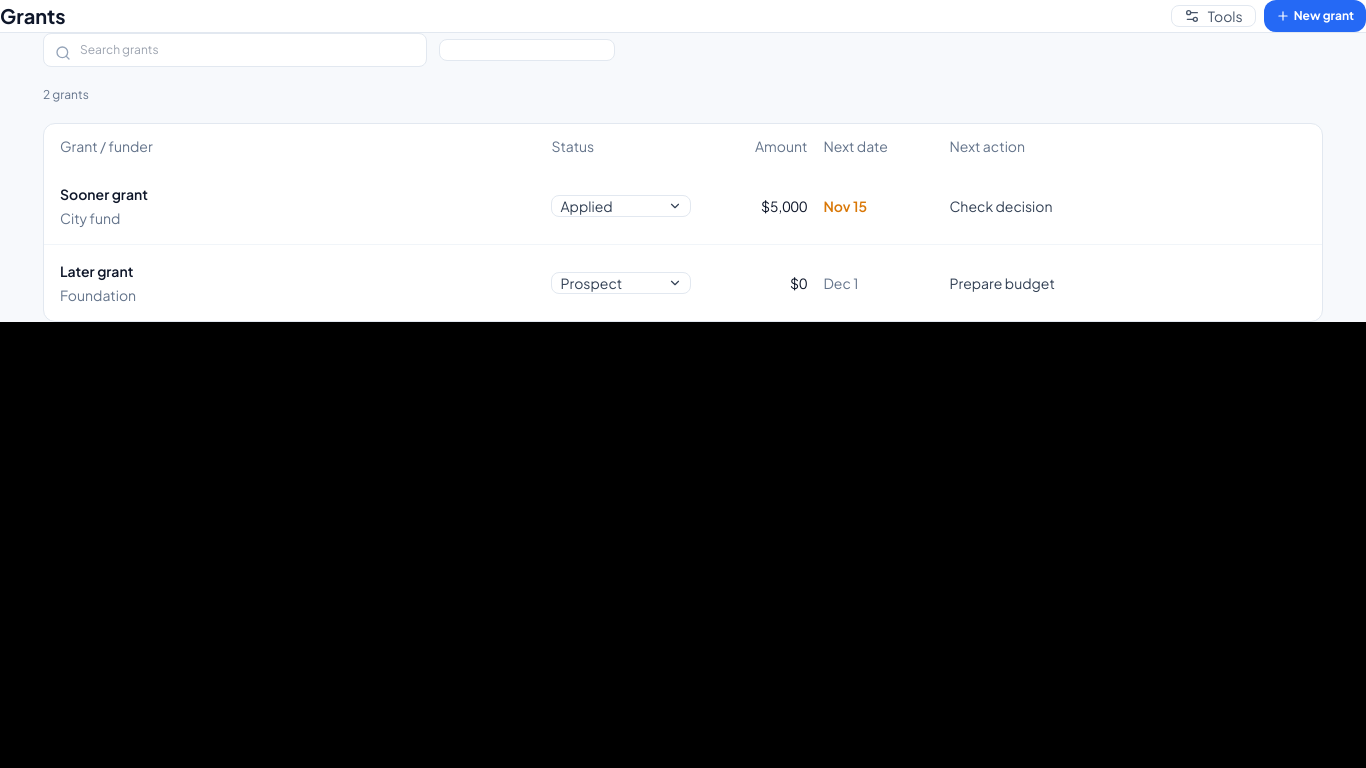
Test case: simple grant tracker › keeps new-grant essentials visible and less-used metadata collapsed
Click the button "New grant".
click(1315, 16)  # box [1264, 0, 1365, 32]
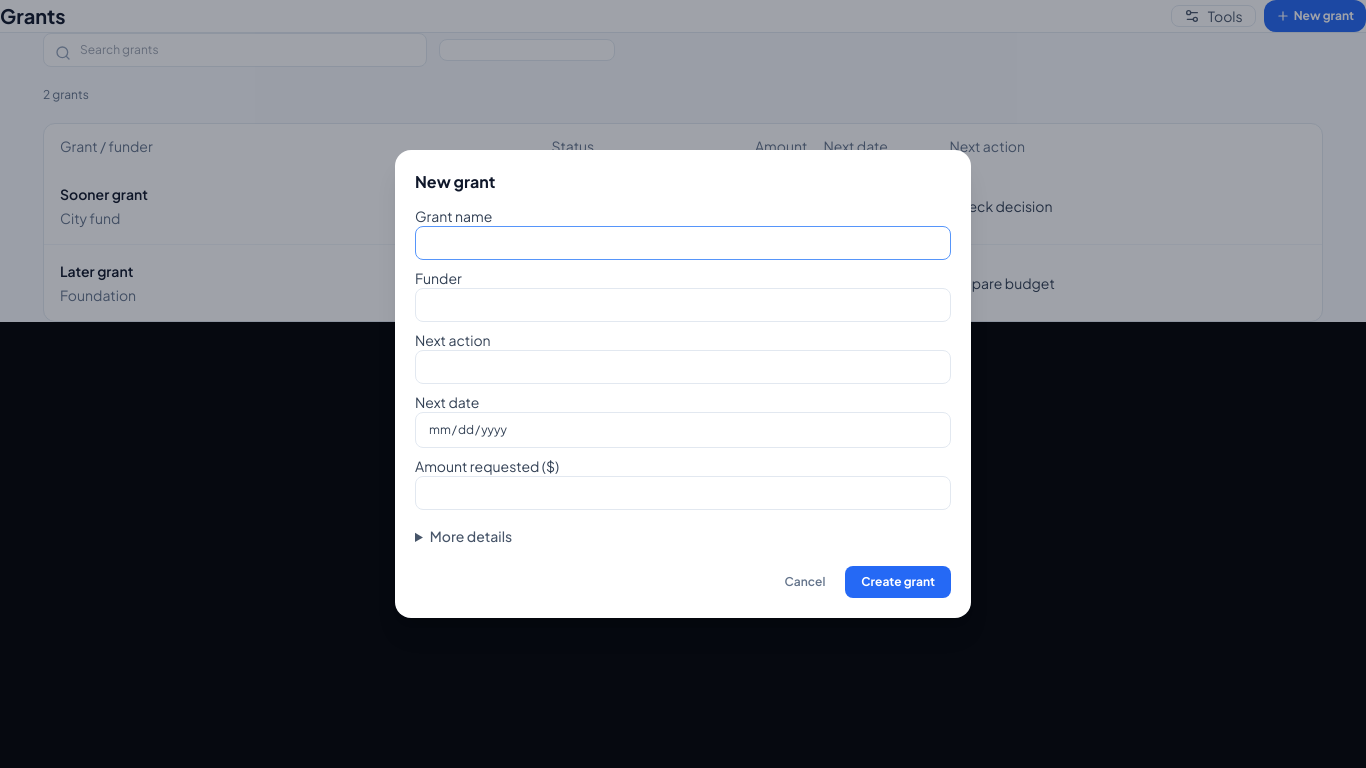
Expected: the dialog shows "Next action", [415, 331, 491, 349]
Expected: the dialog shows "Next date", [415, 393, 479, 411]
